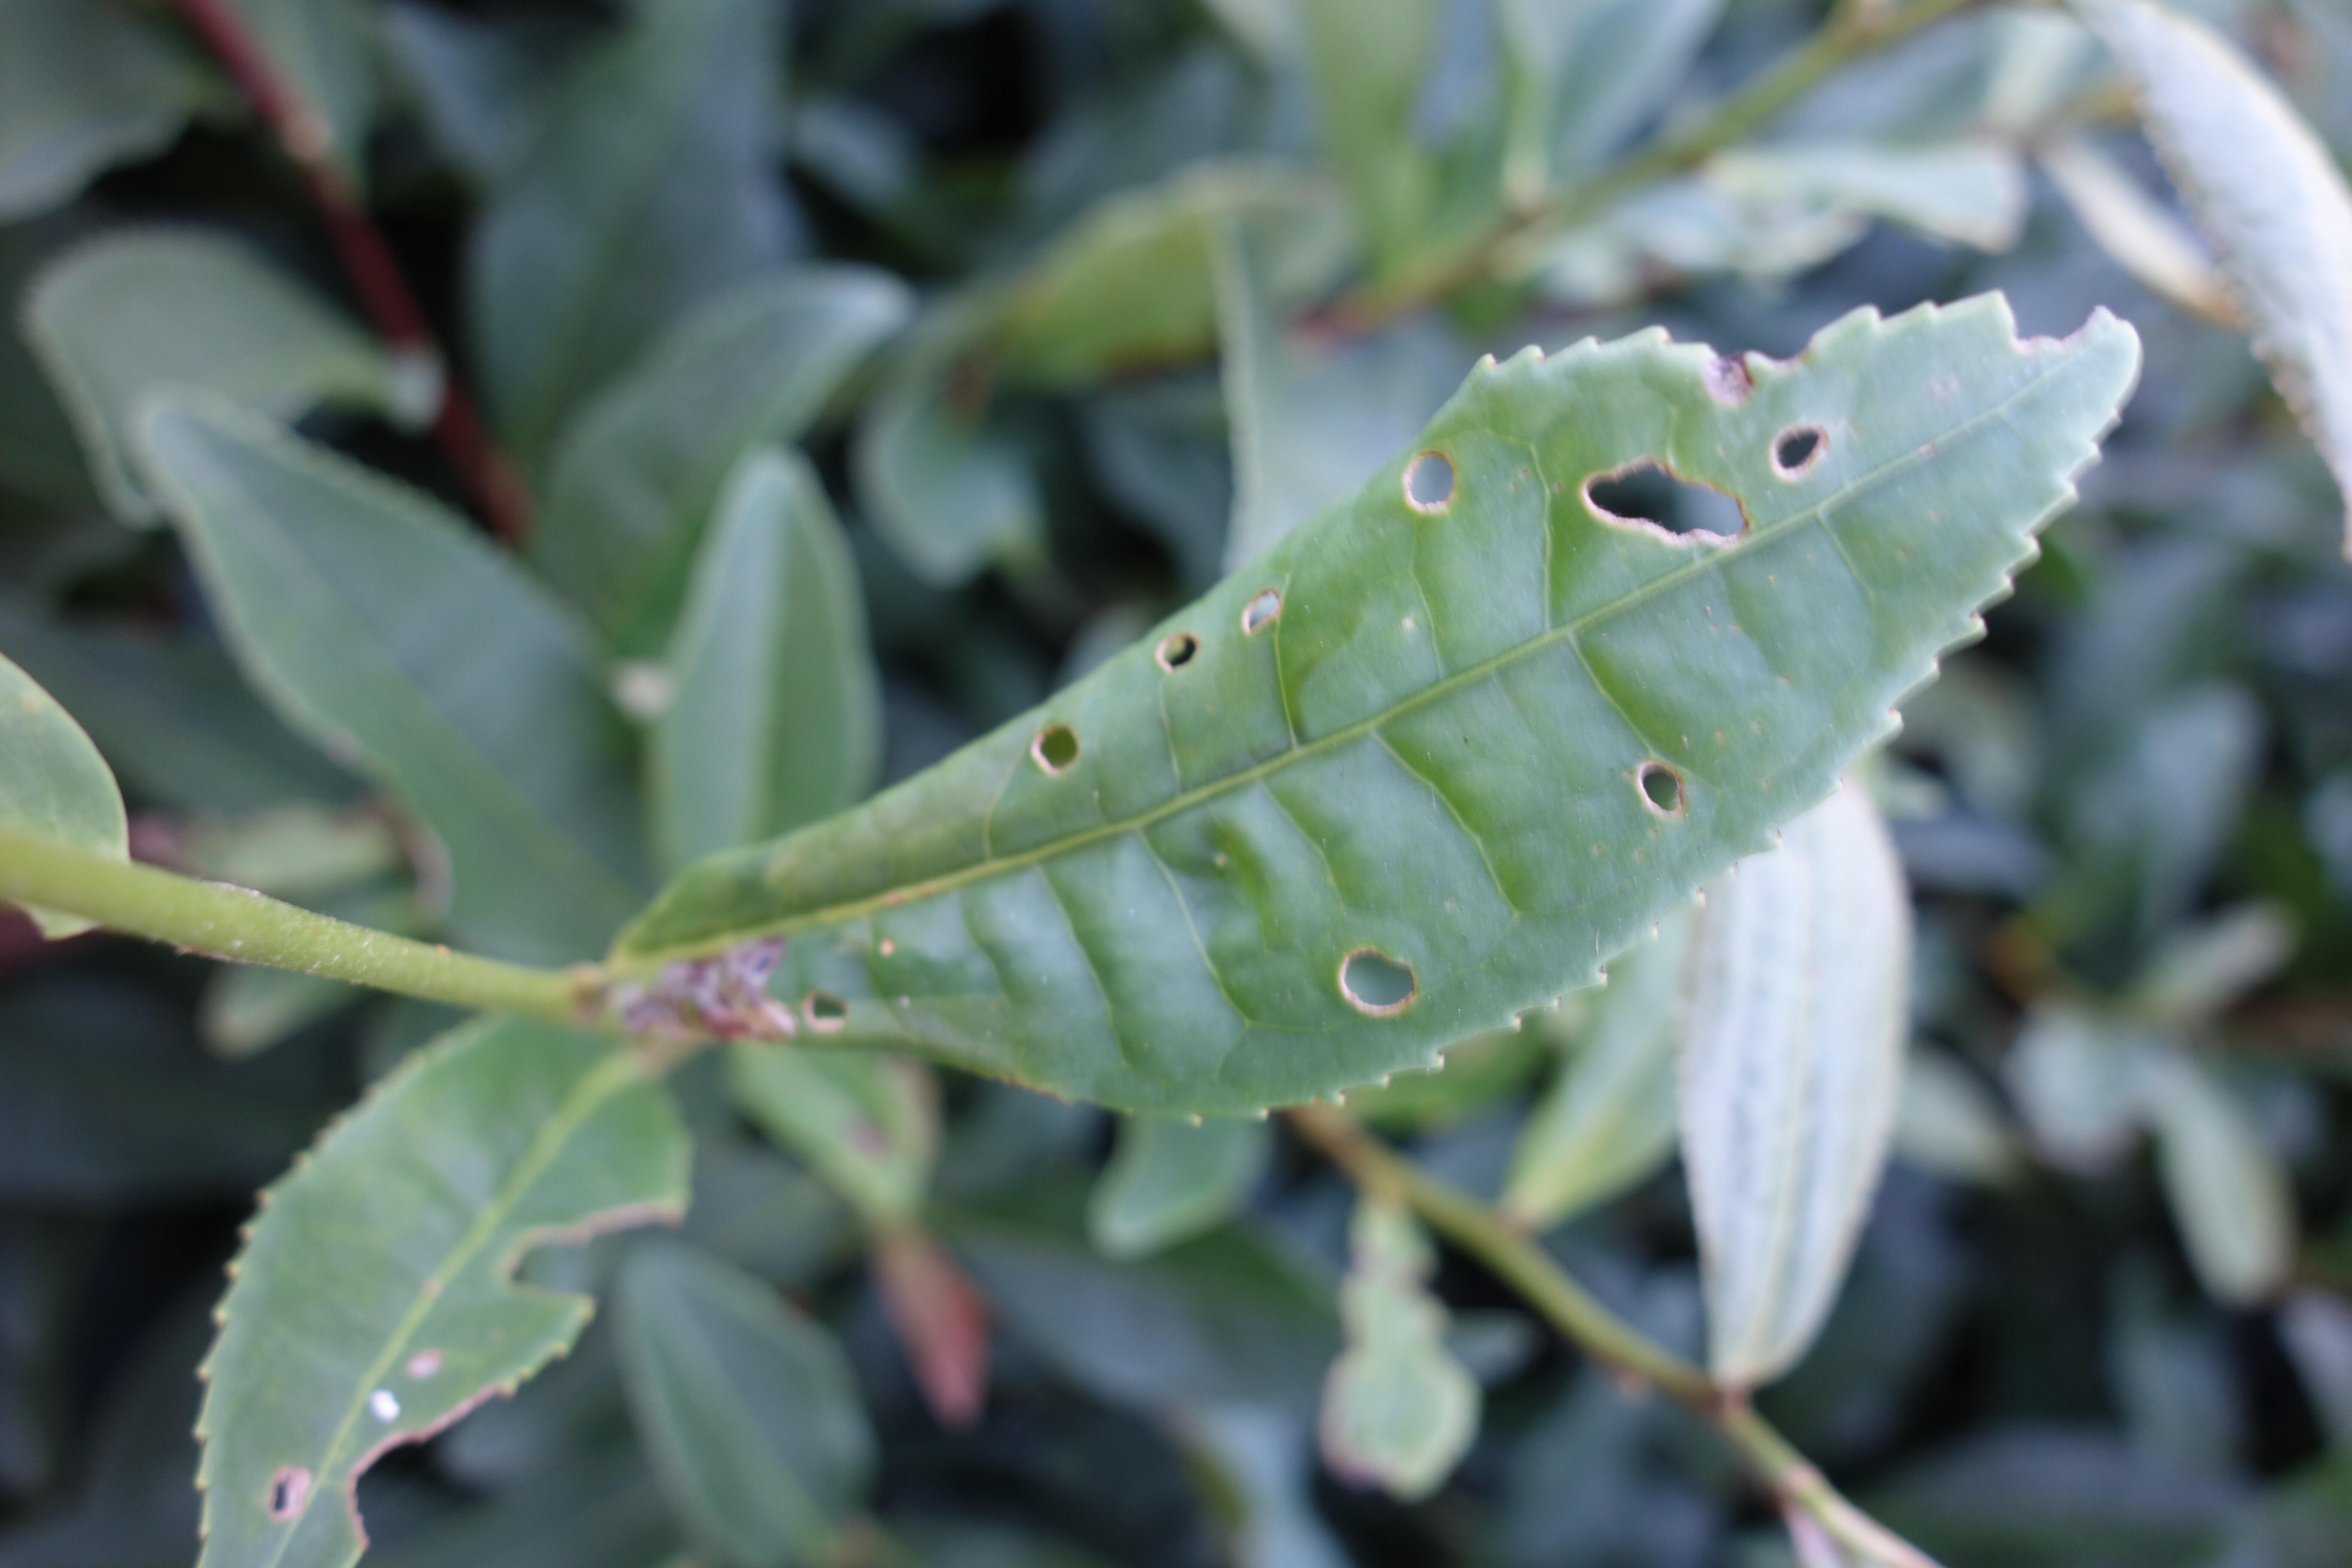chihuo_high: (595, 287, 2147, 1143), (192, 1006, 696, 1568)
